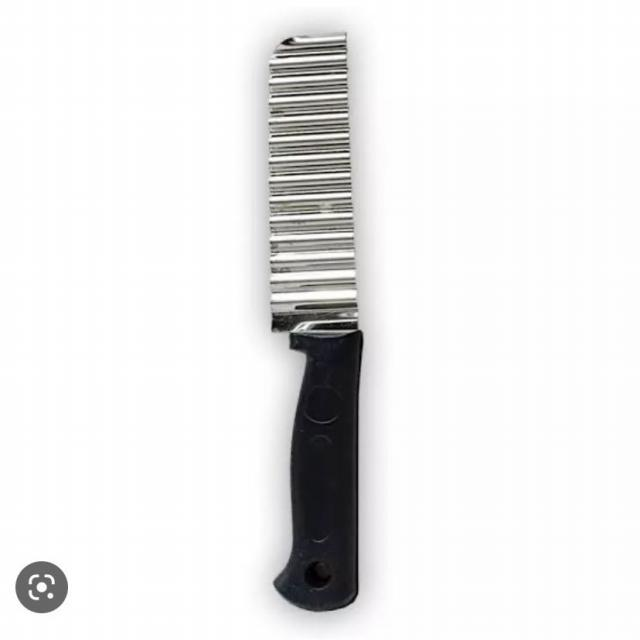Knife: (226, 23, 434, 618)
